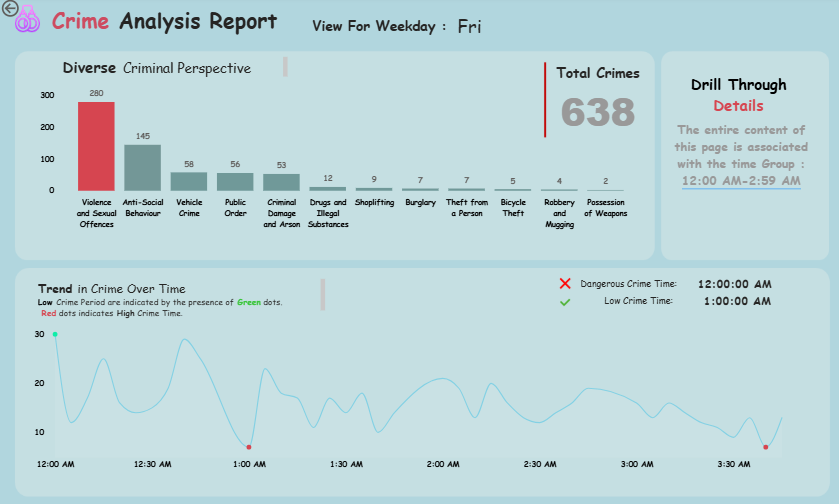

Layout of this report page (visuals, bound fields, positions):
{"tool":"powerbi","page":{"name":"details ","canvas":[1500,900],"ordinal":1},"visuals":[{"type":"actionButton","box":[0,0,100,40],"z":0},{"type":"textbox","box":[1182.6,215.3,263.3,167.7],"z":0,"group":"g2"},{"type":"textbox","box":[65,493.4,518.7,85.9],"z":0,"group":"g1"},{"type":"textbox","box":[1219.3,131.4,190,83.9],"z":1000,"group":"g2"},{"type":"clusteredColumnChart","title":"Diverse Criminal Perspective ","fields":{"Y":["Measures (2).Total Crimes"],"Category":["Other data.Crime"]},"box":[67.3,147.4,1078.2,272.2],"z":1000,"group":"g3"},{"type":"group","id":"g1","title":"details- line chart ","box":[52.2,490.6,1369.7,357.3],"z":1000},{"type":"lineChart","fields":{"Category":["Crimes data.Crime Time"],"Y":["Measures (2).Total Crimes"]},"box":[52.2,579.3,1369.7,268.6],"z":1000,"group":"g1"},{"type":"group","id":"g2","title":"Drill through on this page","box":[1182.6,131.4,264.6,252],"z":2000},{"type":"textbox","box":[1021.3,491,225,36],"z":2000,"group":"g1"},{"type":"group","id":"g3","title":"bar chart- Diverse ","box":[67.3,101,1078.2,318.6],"z":3000},{"type":"card","title":"Total Crimes","fields":{"Values":["Measures (2).Total Crimes"]},"box":[977.4,117,166.5,131.1],"z":3000,"group":"g3"},{"type":"textbox","box":[1029.8,521.4,175.4,63.8],"z":3000,"group":"g1"},{"type":"textbox","box":[78,8.9,490.7,63.8],"z":4000},{"type":"card","fields":{"Values":["Min(Crimes data.Crime Time)"]},"box":[1226.5,521.4,164.8,39],"z":4000,"group":"g1"},{"type":"card","fields":{"Values":["Min(Date Table.weekday)"]},"box":[767.1,30.1,132.9,42.5],"z":5000},{"type":"textbox","box":[67.3,101,448.9,46.4],"z":5000,"group":"g3"},{"type":"card","fields":{"Values":["Min(Crimes data.Crime Time)"]},"box":[1203.8,494,201.6,28.8],"z":5000,"group":"g1"},{"type":"textbox","box":[540.4,30.1,278.1,42.5],"z":6000},{"type":"image","box":[990,523.1,28.9,37.5],"z":6000,"group":"g1"},{"type":"image","box":[990,490.6,28.9,32.5],"z":7000,"group":"g1"}]}

Visuals, with their boxes in screenshot pixels (x1, y1, x2, y2), scaled from the page's 1500x900 canvas onto the 839x504 screenshot:
actionButton: 0,0,56,22
textbox: 661,121,809,214
textbox: 36,276,326,324
textbox: 682,74,788,121
"Diverse Criminal Perspective " clusteredColumnChart: 38,83,641,235
"details- line chart " group: 29,275,795,475
lineChart - Crimes data.Crime Time x Measures (2).Total Crimes: 29,324,795,475
"Drill through on this page" group: 661,74,809,215
textbox: 571,275,697,295
"bar chart- Diverse " group: 38,57,641,235
"Total Crimes" card: 547,66,640,139
textbox: 576,292,674,328
textbox: 44,5,318,41
card - Min(Crimes data.Crime Time): 686,292,778,314
card - Min(Date Table.weekday): 429,17,503,41
textbox: 38,57,289,83
card - Min(Crimes data.Crime Time): 673,277,786,293
textbox: 302,17,458,41
image: 554,293,570,314
image: 554,275,570,293
